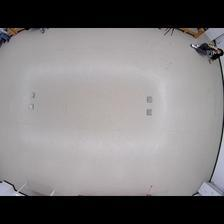fall: (189, 38, 224, 65)
